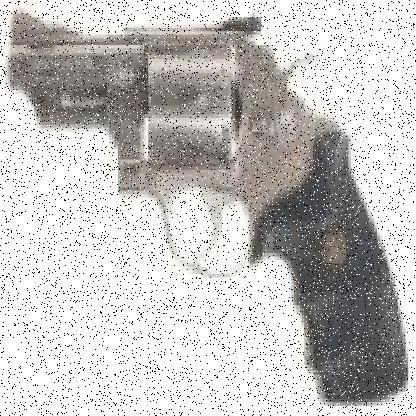pistol: (13, 3, 408, 402)
